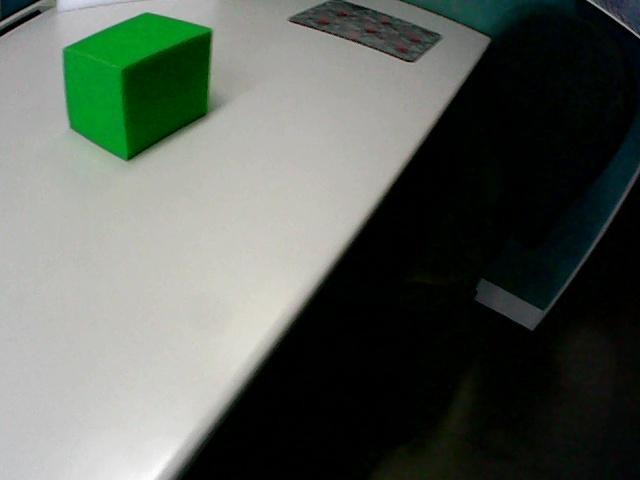blue_block: (0, 0, 36, 17)
